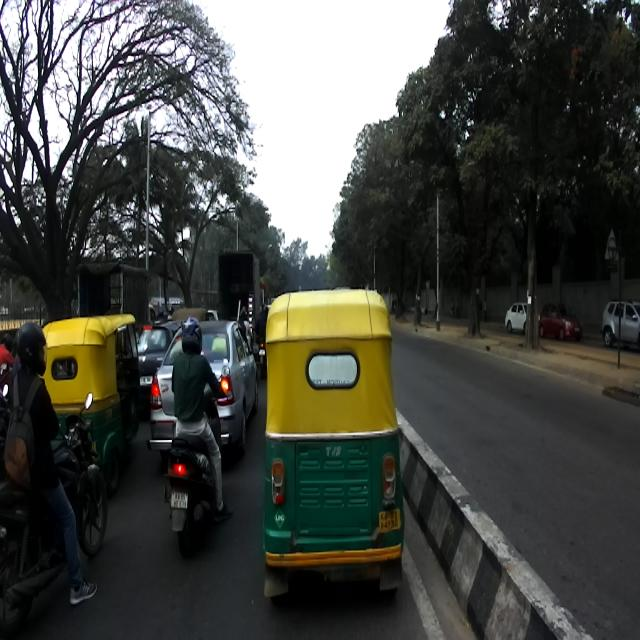auto ahead at: (252, 288, 408, 613)
motorcycle ahead at: (0, 406, 110, 626), (166, 431, 230, 552)
